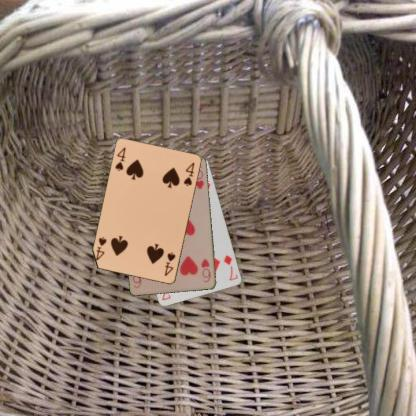4s: (162, 250, 177, 277), (113, 145, 127, 172)
6h: (199, 257, 212, 284)
7d: (221, 252, 239, 282)
